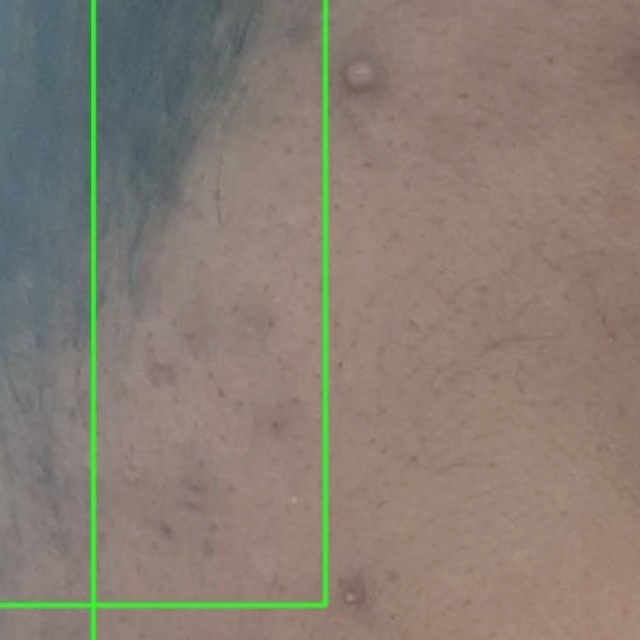Seborrheic Dermatitis: (93, 0, 639, 639), (0, 0, 325, 605)
